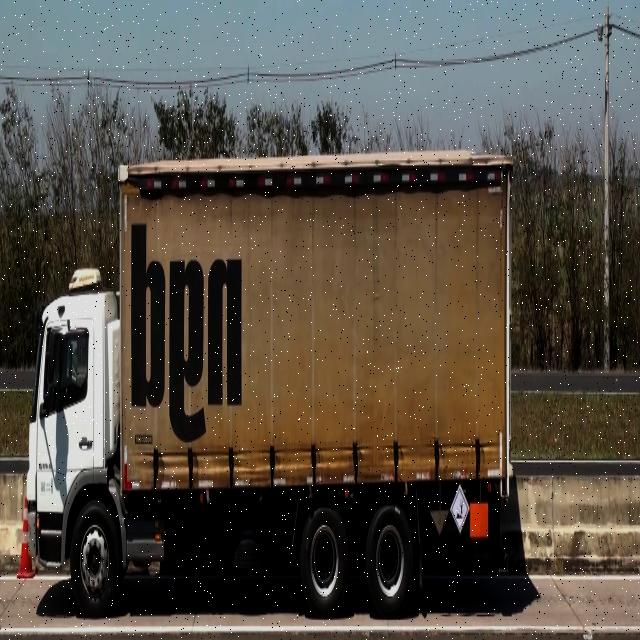-axle: (70, 502, 119, 616), (301, 505, 348, 611), (366, 504, 411, 610)
